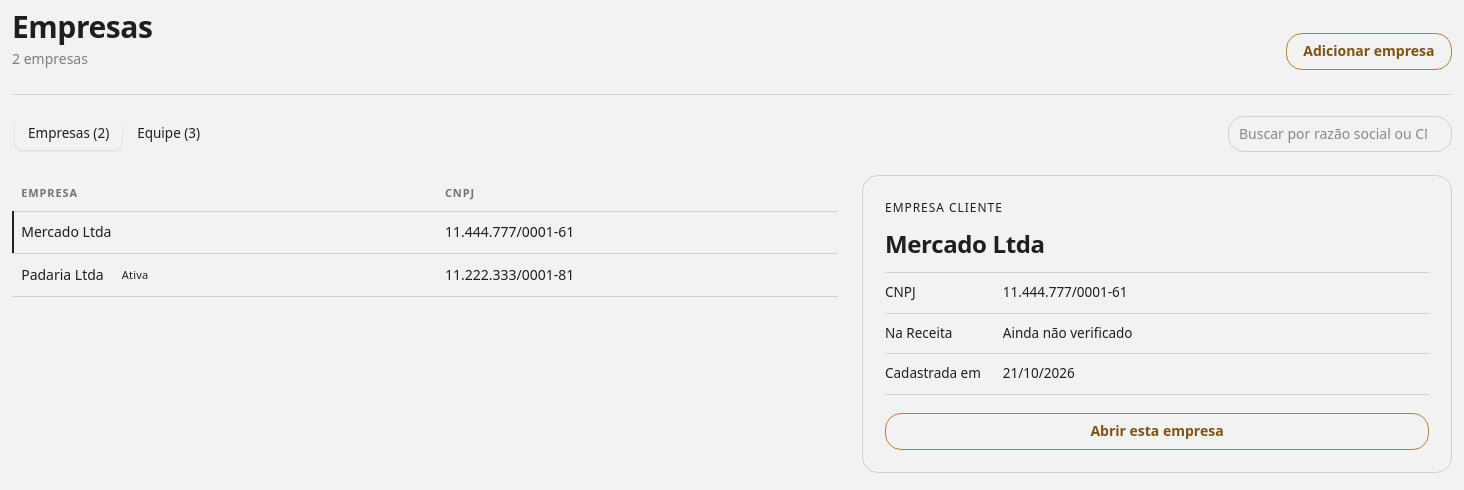
Test: a lista das empresas e o painel › escolher outra linha mostra os dados dela no painel
Step 1. Click the button "Padaria Ltda" → (62, 275), box [21, 264, 104, 286]
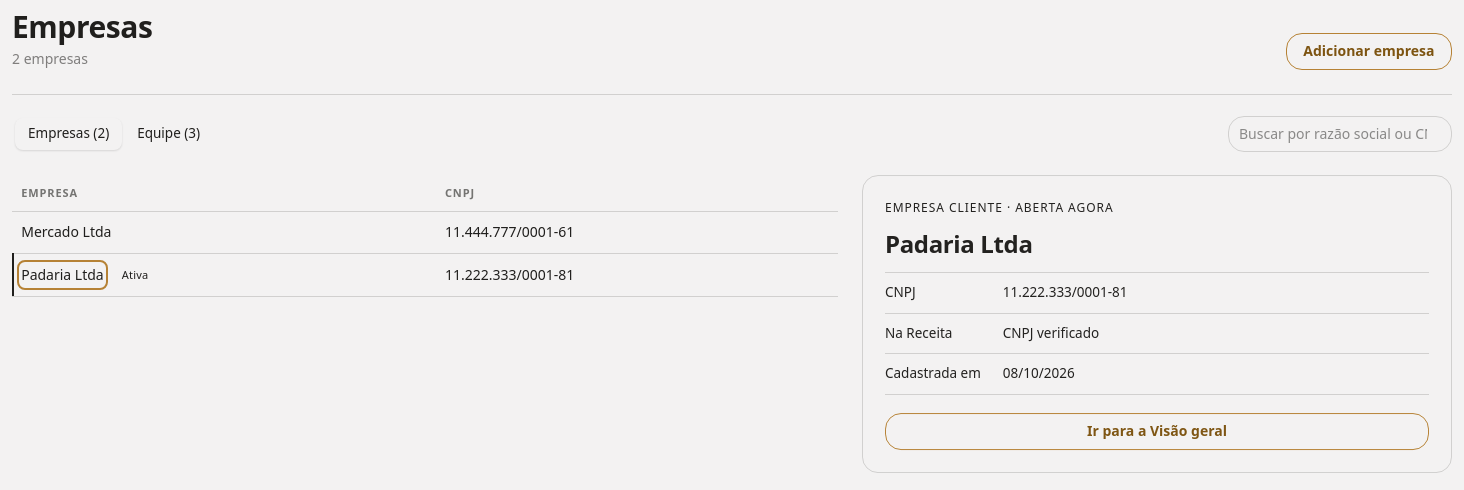
Expected: the text "Empresa cliente · aberta agora" is shown, [885, 199, 1114, 216]
Expected: the text "CNPJ verificado" is shown, [1003, 314, 1429, 354]
Expected: the text "08/10/2026" is shown, [1003, 354, 1429, 395]
